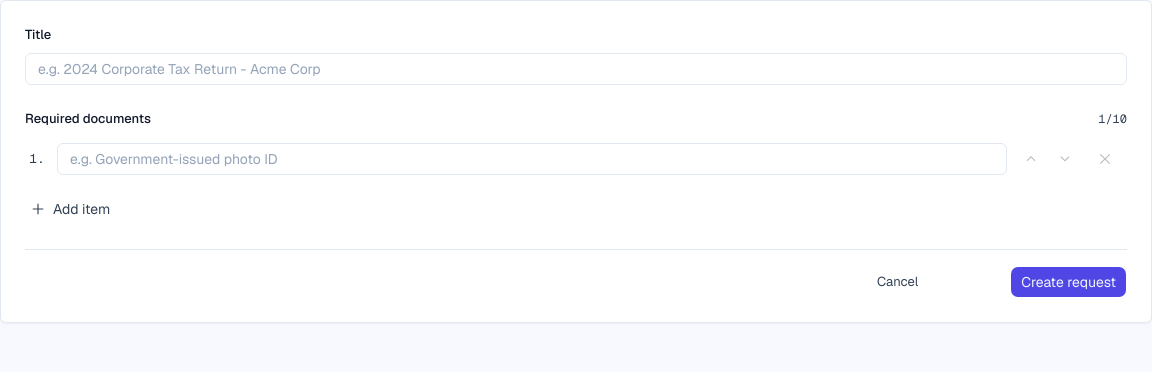
Test case: NewRequestForm › blocks submission until required fields are filled
The width and height of the screenshot is (1152, 372).
Click the button "Create request": (1069, 282) [1010,266,1127,298]
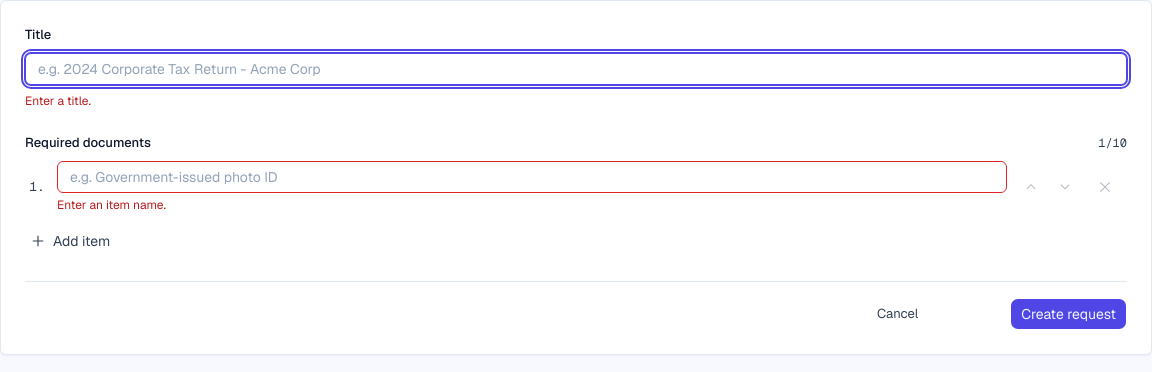
Expected: the text "Enter a title." is shown, [25,93,91,109]
Expected: the text "Enter an item name." is shown, [57,197,166,213]
